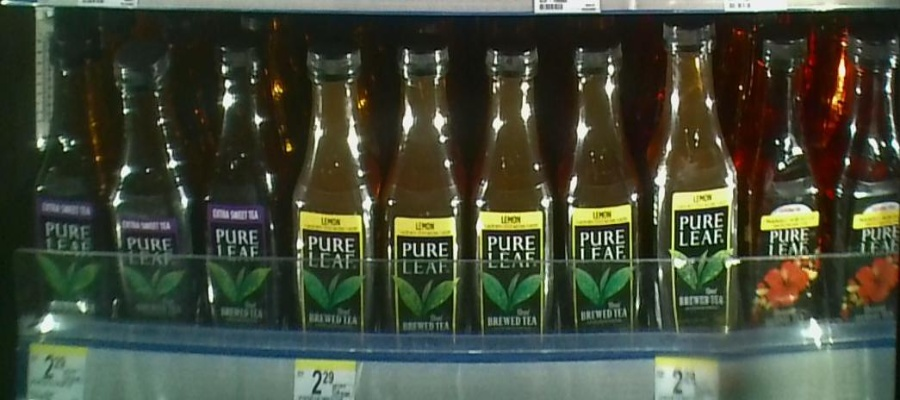bottle: (662, 14, 742, 358), (566, 34, 649, 353), (388, 41, 473, 352), (113, 35, 201, 333), (747, 32, 829, 347), (206, 34, 291, 333), (480, 39, 560, 351), (294, 45, 375, 348), (828, 28, 900, 342), (38, 33, 113, 329)
